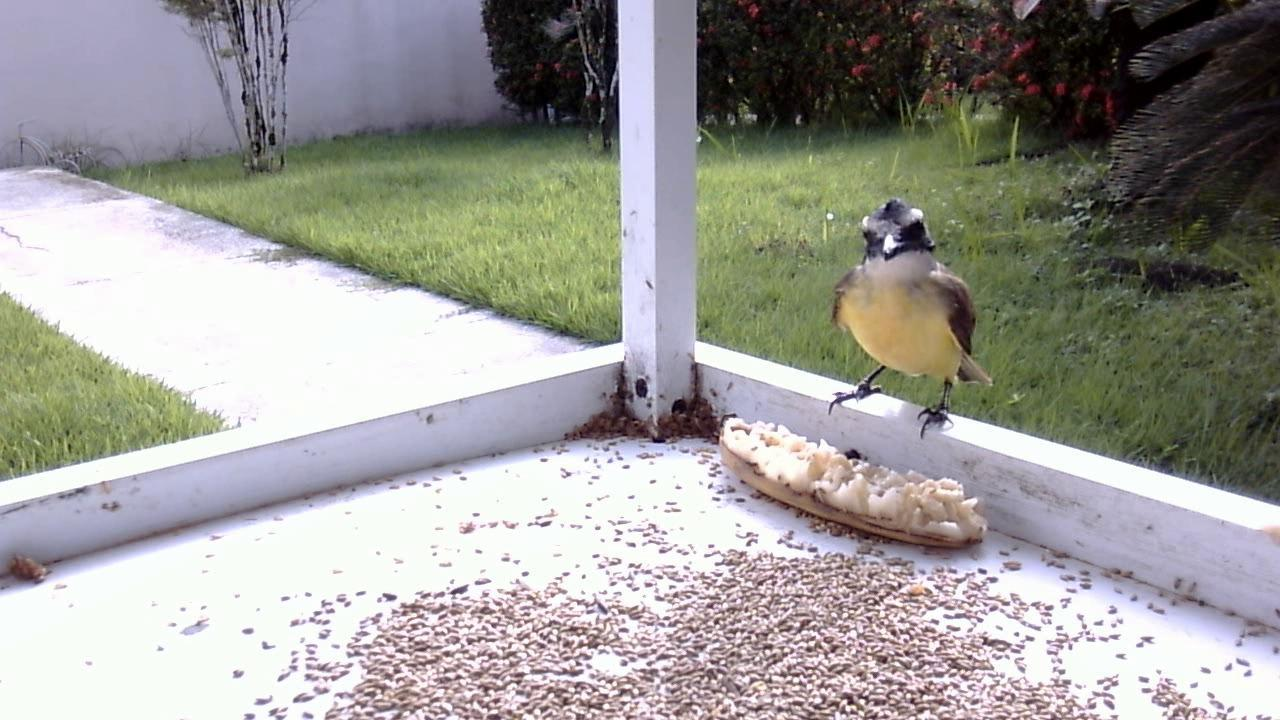bem_te_vi: (822, 194, 994, 454)
